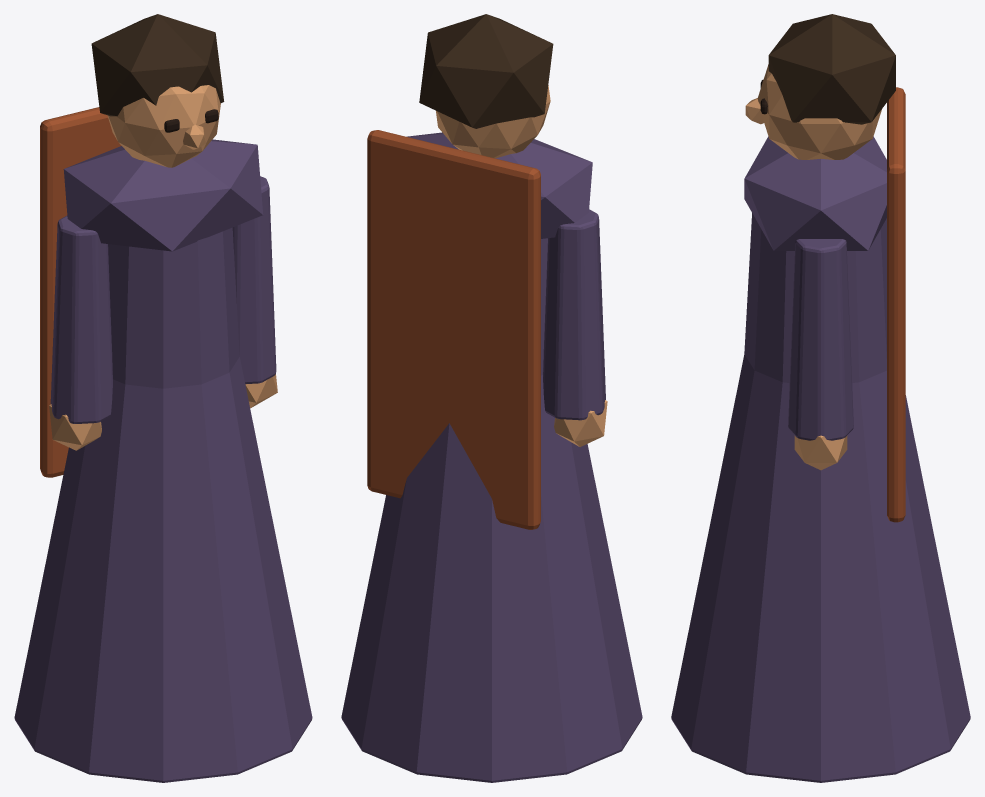
The model's file is sister.glb.
3 renders of one model, left to right at view 1: azimuth 30°, elevation 25°; view 2: azimuth 150°, elevation 25°; view 3: azimuth 270°, elevation 25°, orthographic.
Parts seen in each view (by area): view 1: Cone, Cone.001, Icosphere, Cone.003, Icosphere.004, Cube, Cone.002, Icosphere.003, Icosphere.002, Icosphere.001; view 2: Cone, Cube, Icosphere.004, Cone.003, Icosphere, Icosphere.003, Icosphere.002, Cone.001; view 3: Cone, Icosphere, Cone.002, Cone.001, Icosphere.004, Cube, Icosphere.003, Icosphere.001.
Boxes of the visible parts, <box> form: Cone: <box>14,357,312,782</box>; Cone.001: <box>108,227,239,388</box>; Icosphere: <box>63,139,263,251</box>; Cone.003: <box>50,215,112,423</box>; Icosphere.004: <box>91,14,224,116</box>; Cube: <box>40,107,121,477</box>; Cone.002: <box>232,176,276,384</box>; Icosphere.003: <box>107,85,220,167</box>; Icosphere.002: <box>49,404,101,450</box>; Icosphere.001: <box>245,374,277,408</box>; Cone: <box>341,375,642,782</box>; Cube: <box>367,130,540,529</box>; Icosphere.004: <box>419,14,553,128</box>; Cone.003: <box>543,209,605,420</box>; Icosphere: <box>407,132,592,238</box>; Icosphere.003: <box>436,85,550,158</box>; Icosphere.002: <box>554,400,607,446</box>; Cone.001: <box>541,238,547,375</box>; Cone: <box>671,355,970,782</box>; Icosphere: <box>744,136,886,250</box>; Cone.002: <box>788,239,853,440</box>; Cone.001: <box>744,212,886,382</box>; Icosphere.004: <box>768,14,895,124</box>; Cube: <box>887,87,905,522</box>; Icosphere.003: <box>757,64,881,159</box>; Icosphere.001: <box>794,435,847,470</box>.
Bounding box in the file's own units: 0.7964 × 2.07 × 0.7964.
